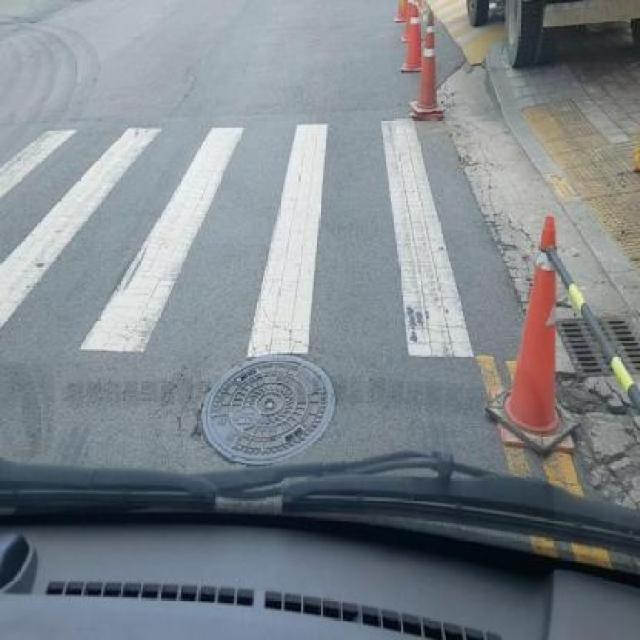Manhole: (191, 350, 337, 467), (557, 314, 640, 380)
